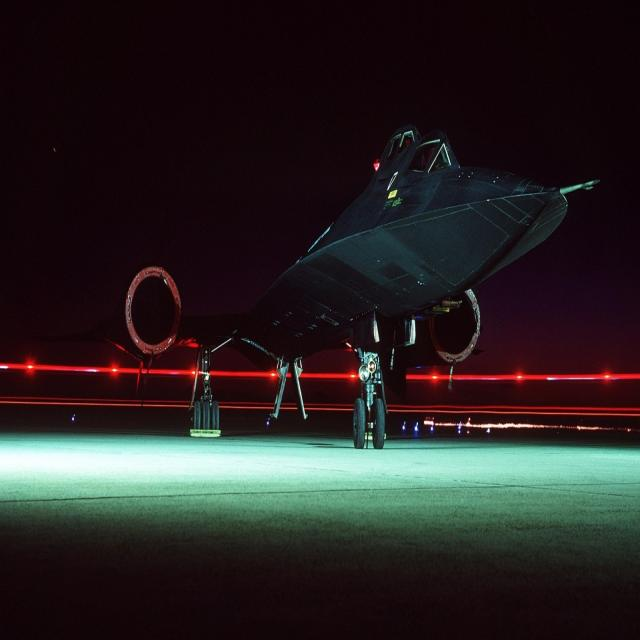MIL_Plane: (28, 121, 600, 449)
